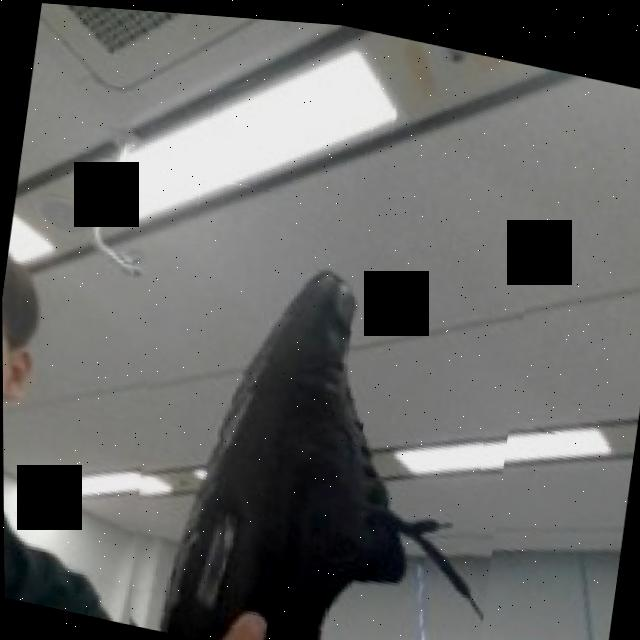shoe: (101, 205, 530, 640)
